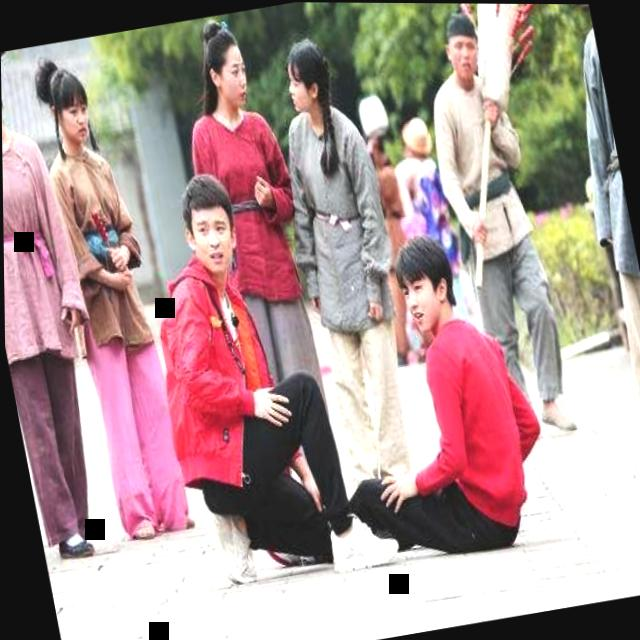Fall-Detected: (301, 207, 556, 579)
